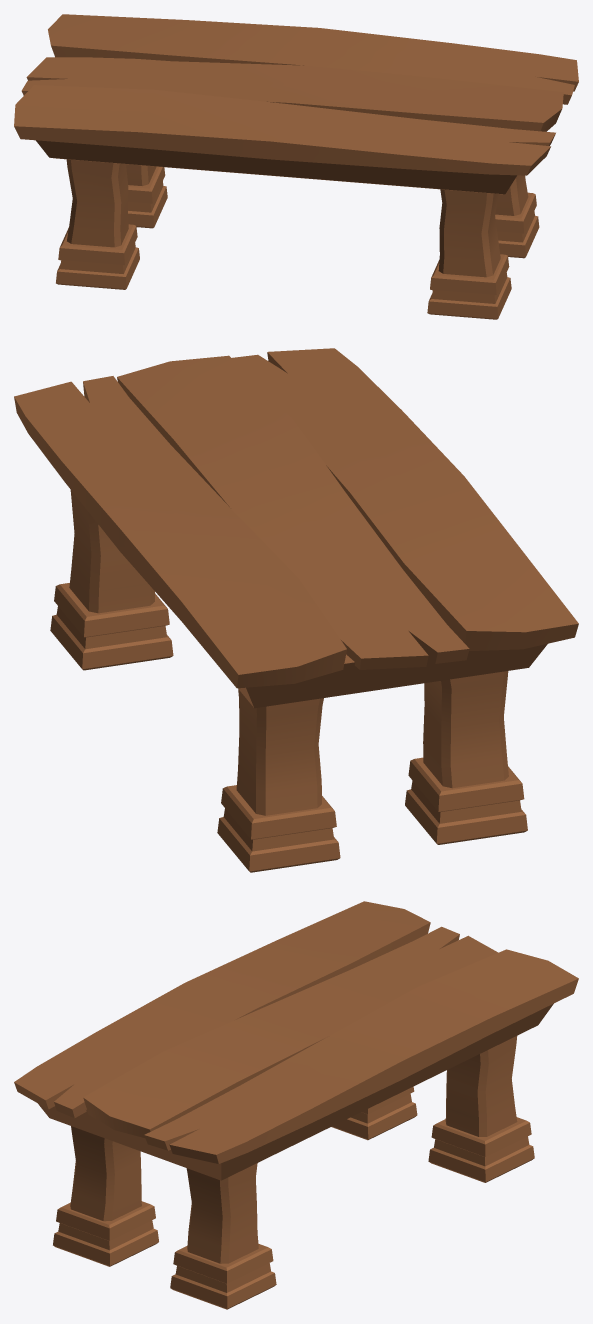
Rendered from MesaHUB.fbx.
3 views of the same model, one above another, from view 1: azimuth 30°, elevation 25°; view 2: azimuth 150°, elevation 25°; view 3: azimuth 270°, elevation 25° (orthographic). The views are drawn at different scales.
Visible parts, largest first — view 1: Table.001; view 2: Table.001; view 3: Table.001.
Boxes of the visible parts, x1,y1,x2,y2 form: Table.001: (14,14,578,319); Table.001: (14,348,578,872); Table.001: (14,901,578,1309).
Bounding box in the file's own units: 3.01 × 1.02 × 2.86.
